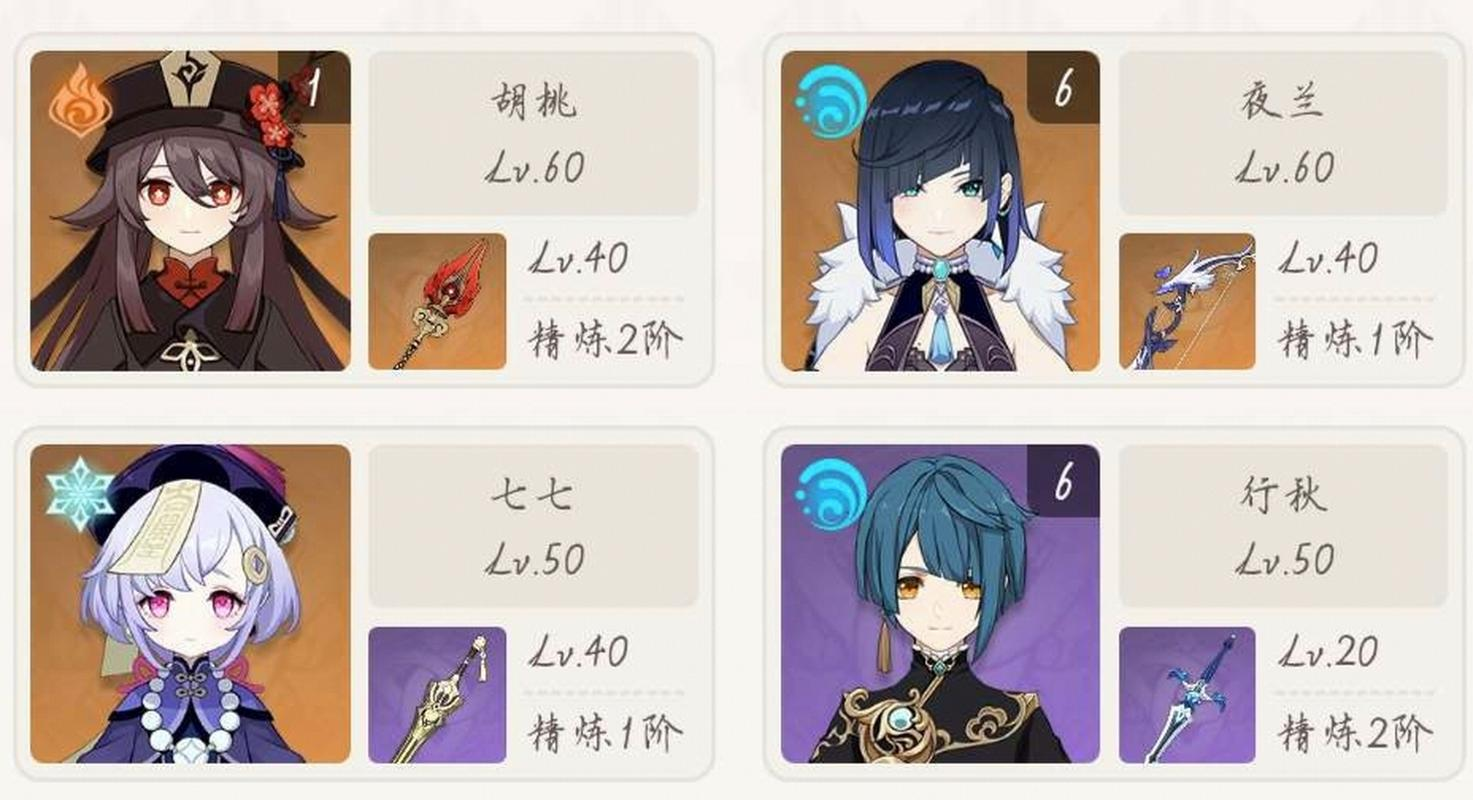夜兰: (773, 54, 1092, 367)
